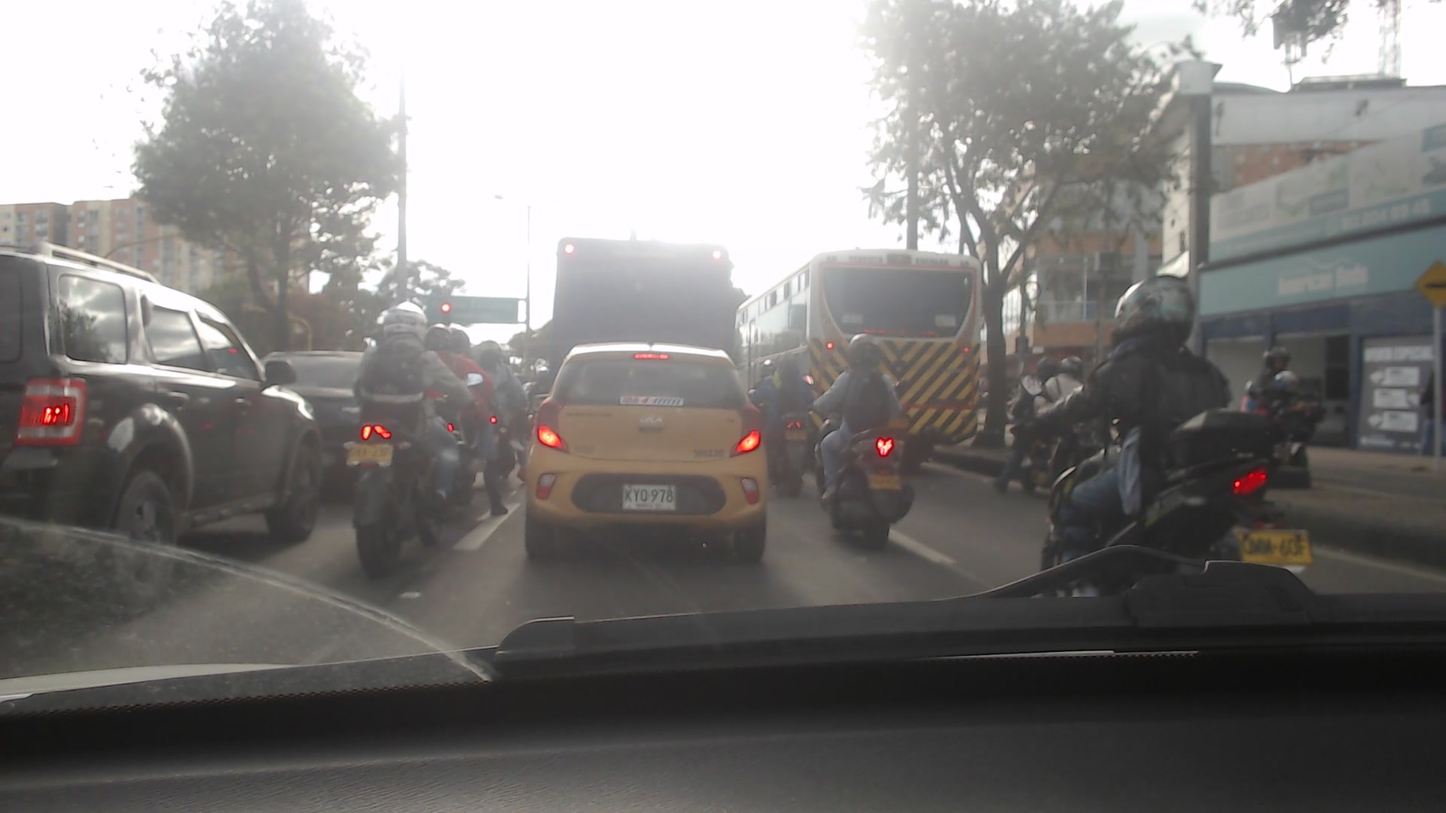bus: (728, 257, 984, 446)
car: (0, 242, 325, 609), (523, 346, 773, 565), (258, 350, 382, 497)
motorcycle: (1008, 438, 1322, 606), (330, 413, 466, 580), (812, 432, 913, 550), (1223, 400, 1326, 467), (753, 410, 818, 501)
person: (1050, 274, 1268, 497), (349, 298, 455, 489), (818, 336, 913, 453), (425, 310, 488, 456), (457, 341, 525, 435), (1032, 354, 1094, 432), (1244, 336, 1313, 406), (761, 354, 815, 425)
truck: (548, 231, 739, 358)
